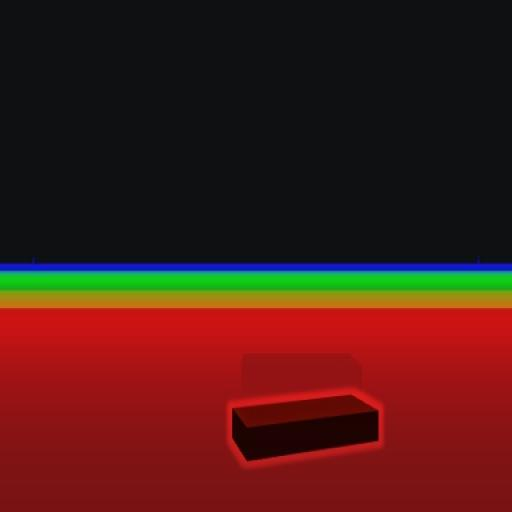debris_container: (229, 392, 378, 465)
